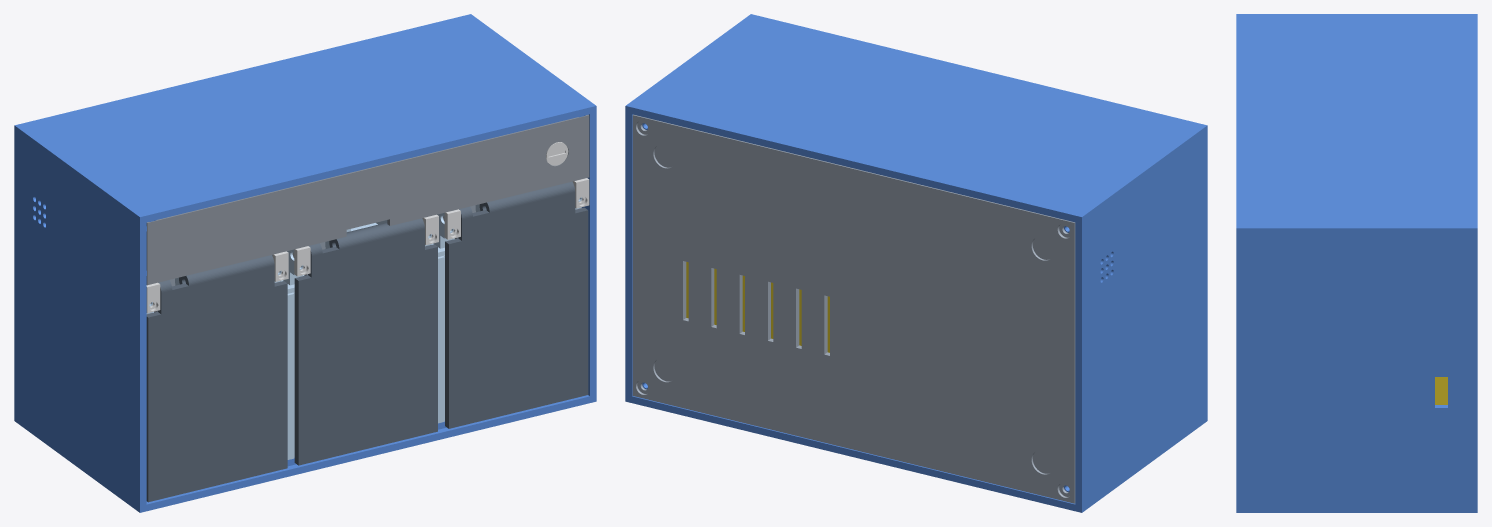
File: montagem.glb
3 renders of one model, left to right at view 1: azimuth 30°, elevation 25°; view 2: azimuth 150°, elevation 25°; view 3: azimuth 270°, elevation 25°, orthographic. The views are drawn at different scales.
Parts seen in each view (by area): view 1: corpo, tampa_2, tampa_3, tampa_1, tampa_tecnica, bandeja; view 2: fundo, corpo, componente_modulo_UPS_e_baterias; view 3: corpo, componente_conector_USB-C.
Part boxes in pixels (x1,y1,x2,y2): corpo: [14, 14, 596, 512]; tampa_2: [294, 218, 437, 465]; tampa_3: [445, 181, 588, 428]; tampa_1: [146, 255, 287, 502]; tampa_tecnica: [146, 114, 589, 285]; bandeja: [146, 181, 582, 459]; fundo: [632, 114, 1075, 503]; corpo: [625, 14, 1207, 512]; componente_modulo_UPS_e_baterias: [686, 262, 829, 352]; corpo: [1236, 14, 1477, 512]; componente_conector_USB-C: [1435, 377, 1447, 403].
Bounding box in the file's own units: 210 × 130 × 100.
